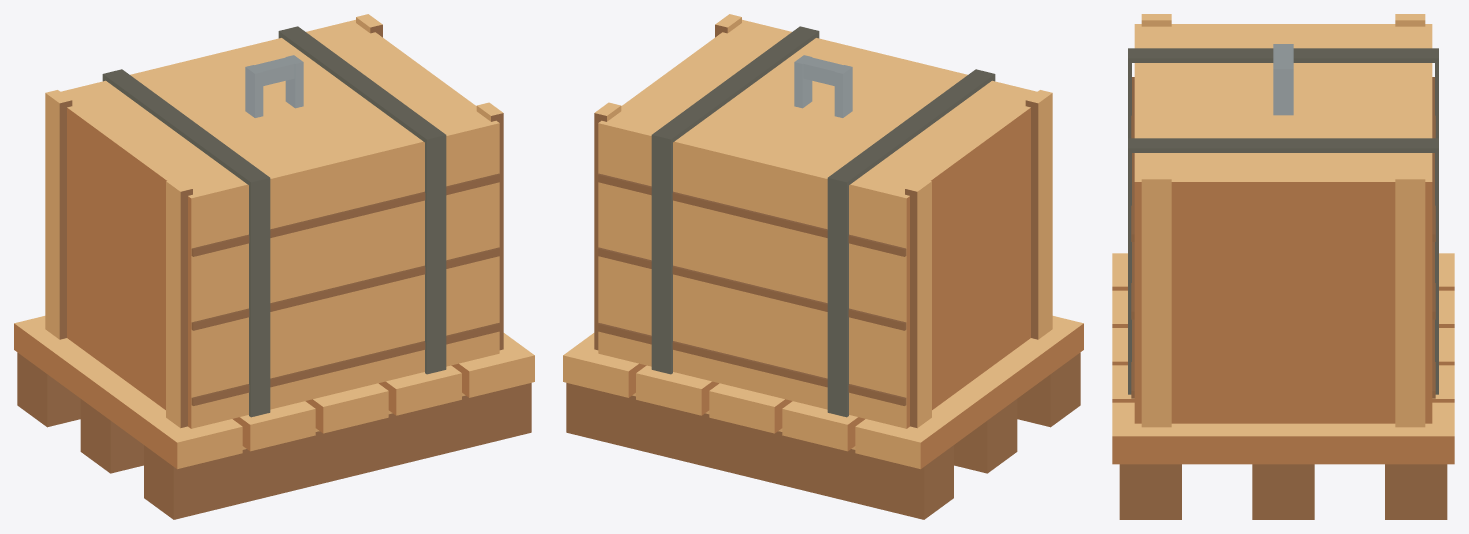
Rendered from crate-v1.glb.
3 views of the same model, side by side, from view 1: azimuth 30°, elevation 25°; view 2: azimuth 150°, elevation 25°; view 3: azimuth 270°, elevation 25° (orthographic). The views are drawn at different scales.
Parts seen in each view (by area): view 1: Plywood load, Pallet runner, Pallet top slat, Corner frame.001, Corner frame, Vertical strap, Vertical strap.002, Top strap, Top strap.001, Pallet top slat.004, Pallet runner.001, Pallet runner.002 (+10 smaller); view 2: Plywood load, Pallet runner.002, Pallet top slat, Corner frame, Corner frame.001, Vertical strap.001, Vertical strap.003, Top strap.001, Top strap, Pallet top slat.004, Pallet runner.001, Pallet runner (+10 smaller); view 3: Plywood load, Pallet top slat.004, Corner frame.002, Corner frame.003, Top strap.001, Top strap, Pallet runner, Pallet runner.001, Pallet runner.002, Pallet top slat.003, Pallet top slat, Pallet top slat.001 (+9 smaller).
Part boxes in pixels (x1,y1,x2,y2): Plywood load: [61, 19, 499, 428]; Pallet runner: [144, 383, 531, 519]; Pallet top slat: [14, 316, 242, 469]; Corner frame.001: [45, 90, 72, 339]; Corner frame: [166, 178, 192, 428]; Vertical strap: [249, 176, 270, 417]; Vertical strap.002: [425, 133, 446, 374]; Top strap: [103, 70, 267, 185]; Top strap.001: [279, 27, 443, 142]; Pallet top slat.004: [451, 333, 534, 397]; Pallet runner.001: [80, 399, 143, 473]; Pallet runner.002: [17, 352, 80, 427]; Plywood load: [598, 19, 1036, 428]; Pallet runner.002: [566, 383, 953, 519]; Pallet top slat: [855, 316, 1083, 469]; Corner frame: [1025, 90, 1052, 339]; Corner frame.001: [905, 178, 931, 428]; Vertical strap.001: [827, 176, 848, 417]; Vertical strap.003: [651, 133, 672, 374]; Top strap.001: [654, 27, 818, 143]; Top strap: [830, 70, 993, 186]; Pallet top slat.004: [563, 333, 646, 397]; Pallet runner.001: [954, 399, 1017, 473]; Pallet runner: [1017, 352, 1080, 427]; Plywood load: [1134, 24, 1432, 423]; Pallet top slat.004: [1112, 402, 1454, 464]; Corner frame.002: [1141, 173, 1171, 427]; Corner frame.003: [1395, 173, 1425, 427]; Top strap.001: [1128, 138, 1438, 152]; Top strap: [1128, 48, 1438, 62]; Pallet runner: [1119, 464, 1181, 519]; Pallet runner.001: [1252, 464, 1314, 519]; Pallet runner.002: [1385, 464, 1447, 519]; Pallet top slat.003: [1112, 365, 1454, 402]; Pallet top slat: [1112, 253, 1454, 290]; Pallet top slat.001: [1112, 290, 1454, 327].
Size of the model in its own units: 19 by 18 by 15.
